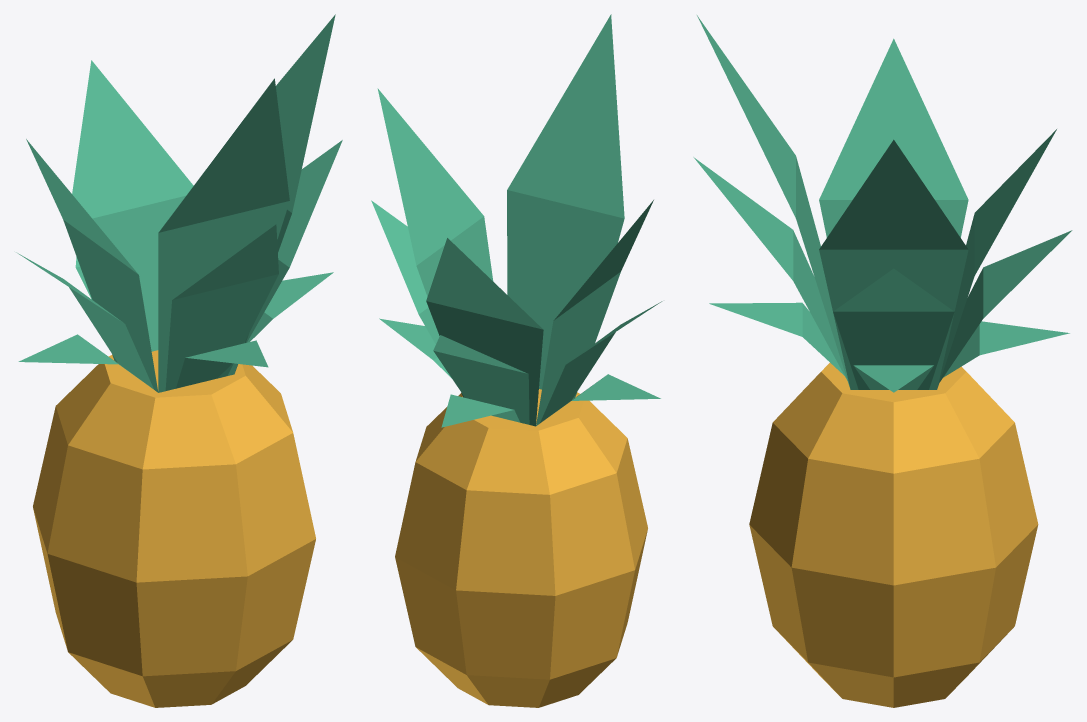
File: pineapple.obj
3 views of the same model, side by side, from view 1: azimuth 30°, elevation 25°; view 2: azimuth 150°, elevation 25°; view 3: azimuth 270°, elevation 25° (orthographic). The views are drawn at different scales.
Visible parts, largest first — view 1: pineapple; view 2: pineapple; view 3: pineapple.
Part boxes in pixels (x1,y1,x2,y2): pineapple: [16, 14, 342, 707]; pineapple: [371, 14, 662, 707]; pineapple: [693, 15, 1072, 707].
Bounding box in the file's own units: 0.2412 × 0.4716 × 0.2448.
